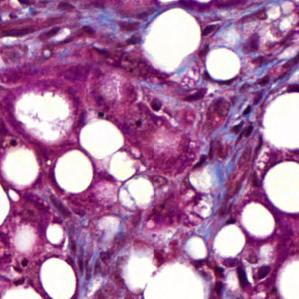steatosis: (55, 148, 99, 199), (203, 44, 243, 83)
